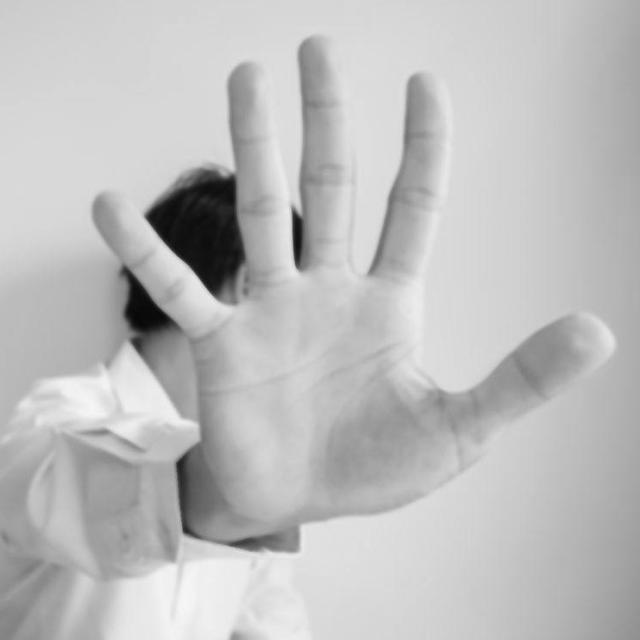stop: (86, 25, 623, 529)
